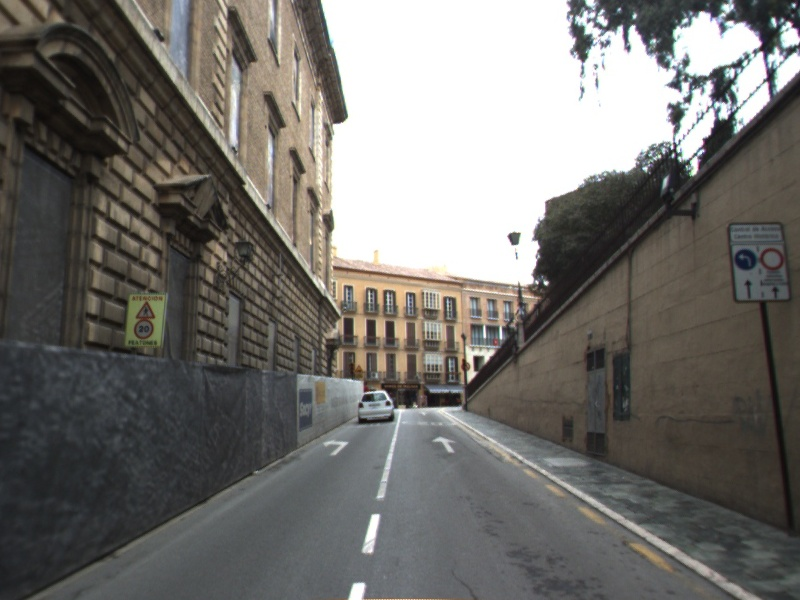LEFT: (320, 437, 351, 457)
STRAIGHT: (430, 434, 459, 455)
